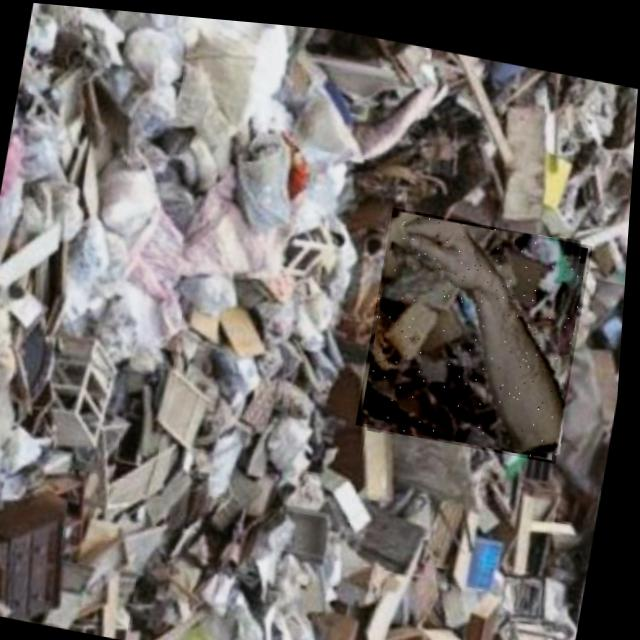Person in Rubble: (358, 198, 595, 454)
